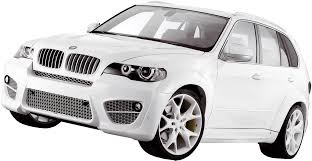bmw: (2, 2, 312, 159)
